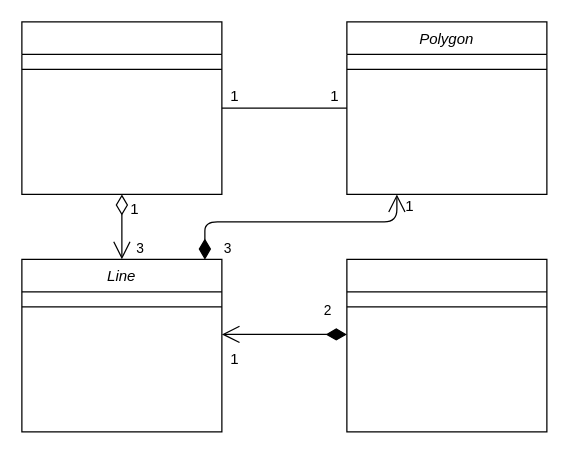
Image size: 569x454. Some labels were removed from this diagram. The box of each missing label's shape, as (x1, y1, x2, y2) in pixels:
Drawing: (21, 21, 222, 194)
Point: (346, 258, 547, 432)
